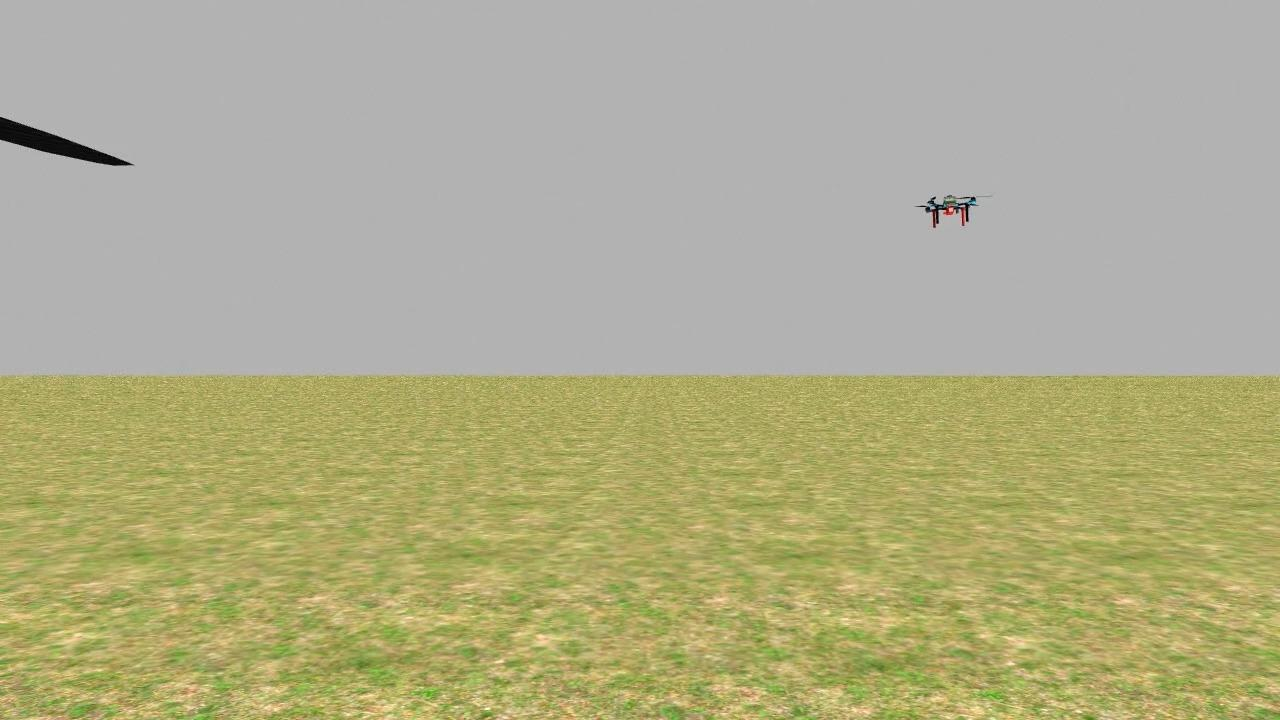UAV: (900, 178, 1003, 246)
